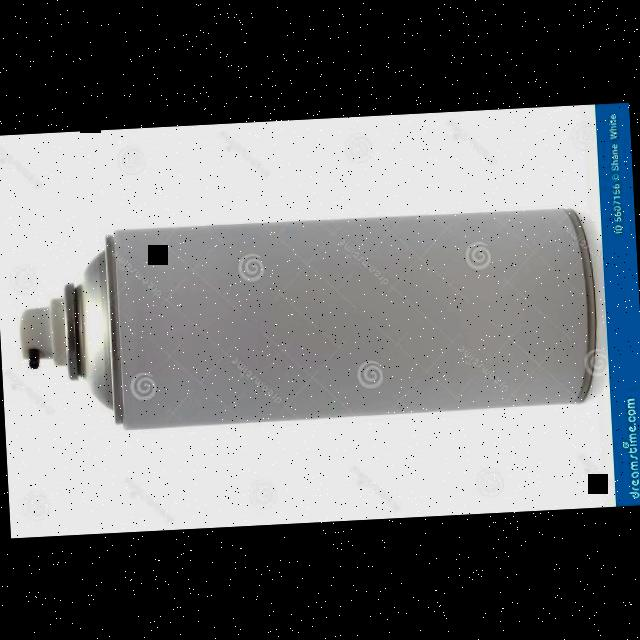chemical_spray_can: (5, 192, 605, 448)
